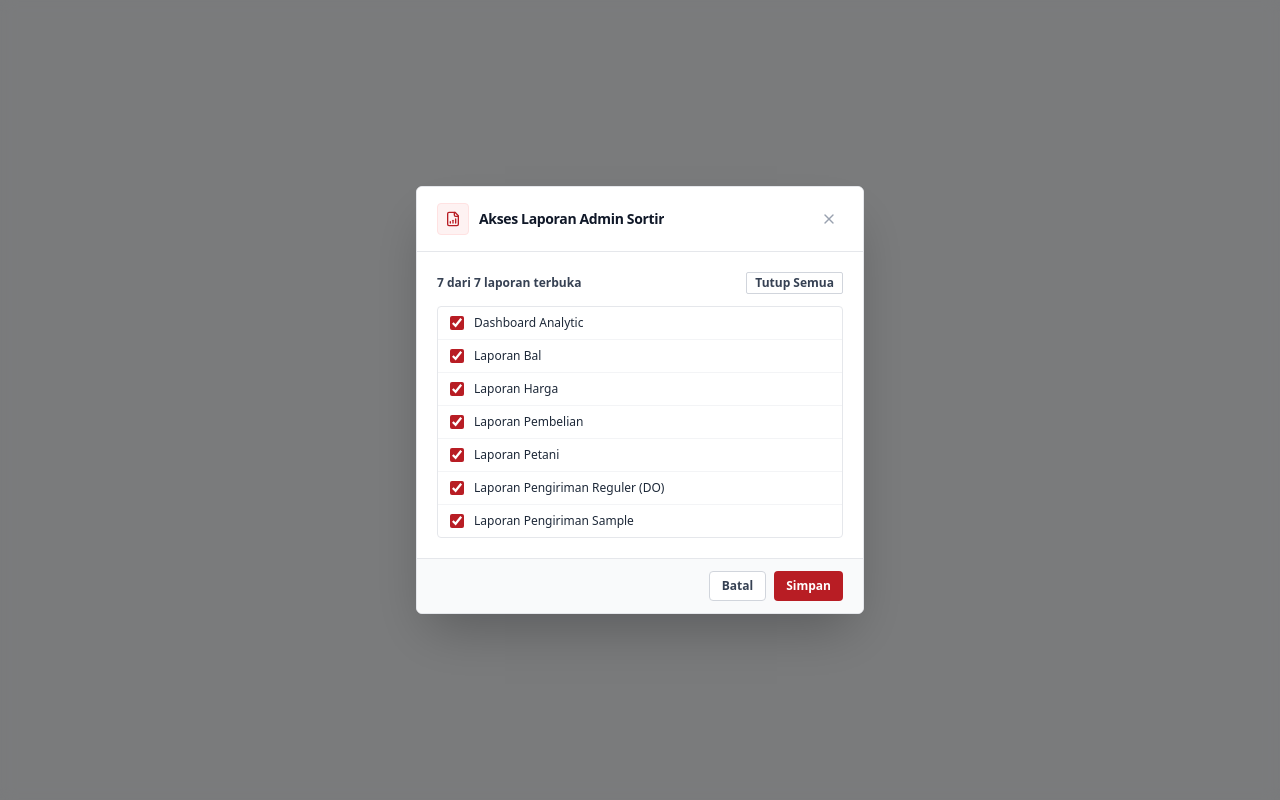
Scenario: Akses Laporan Admin Sortir › server menolak: jendela tetap terbuka dengan alasannya
Step 1. Click the button "Simpan" → x=809, y=586, box [774,571,843,601]
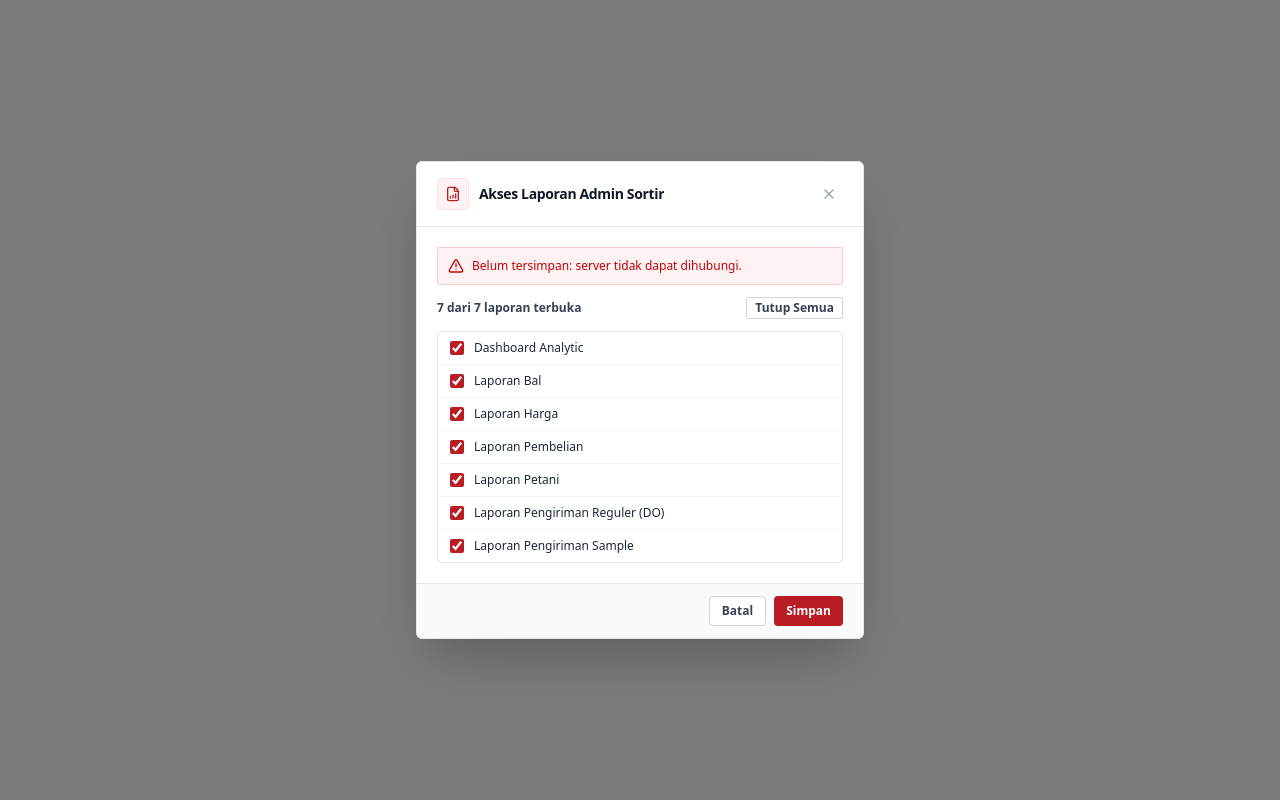
expect the text "Belum tersimpan: server tidak dapat dihubungi." is shown: met, box [472,258,742,274]
